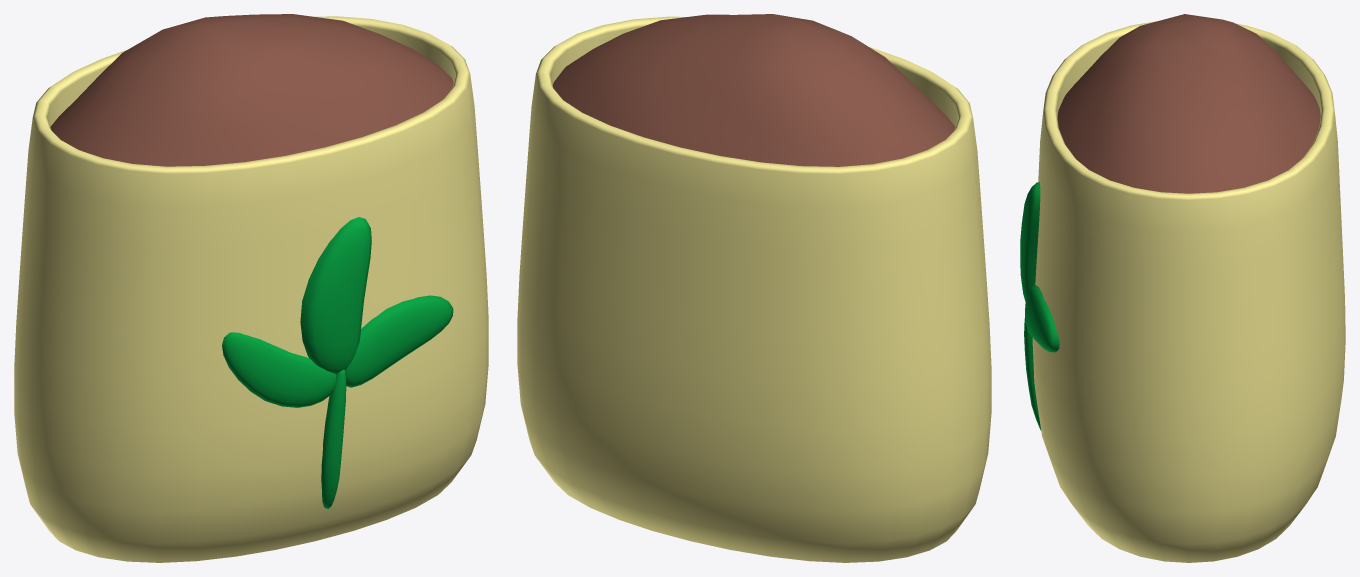
The model's file is Farm_15_Bag_with_Ground_2.glb.
3 views of the same model, side by side, from view 1: azimuth 30°, elevation 25°; view 2: azimuth 150°, elevation 25°; view 3: azimuth 270°, elevation 25° (orthographic). The views are drawn at different scales.
Visible parts, largest first — view 1: Farm_15_Bag_with_Ground_2; view 2: Farm_15_Bag_with_Ground_2; view 3: Farm_15_Bag_with_Ground_2.
Boxes of the visible parts, <box> form: Farm_15_Bag_with_Ground_2: <box>14,14,488,562</box>; Farm_15_Bag_with_Ground_2: <box>517,14,991,562</box>; Farm_15_Bag_with_Ground_2: <box>1020,14,1345,562</box>.
Bounding box in the file's own units: 0.7005 × 0.7452 × 0.4921.
1 material, 1 textured.
